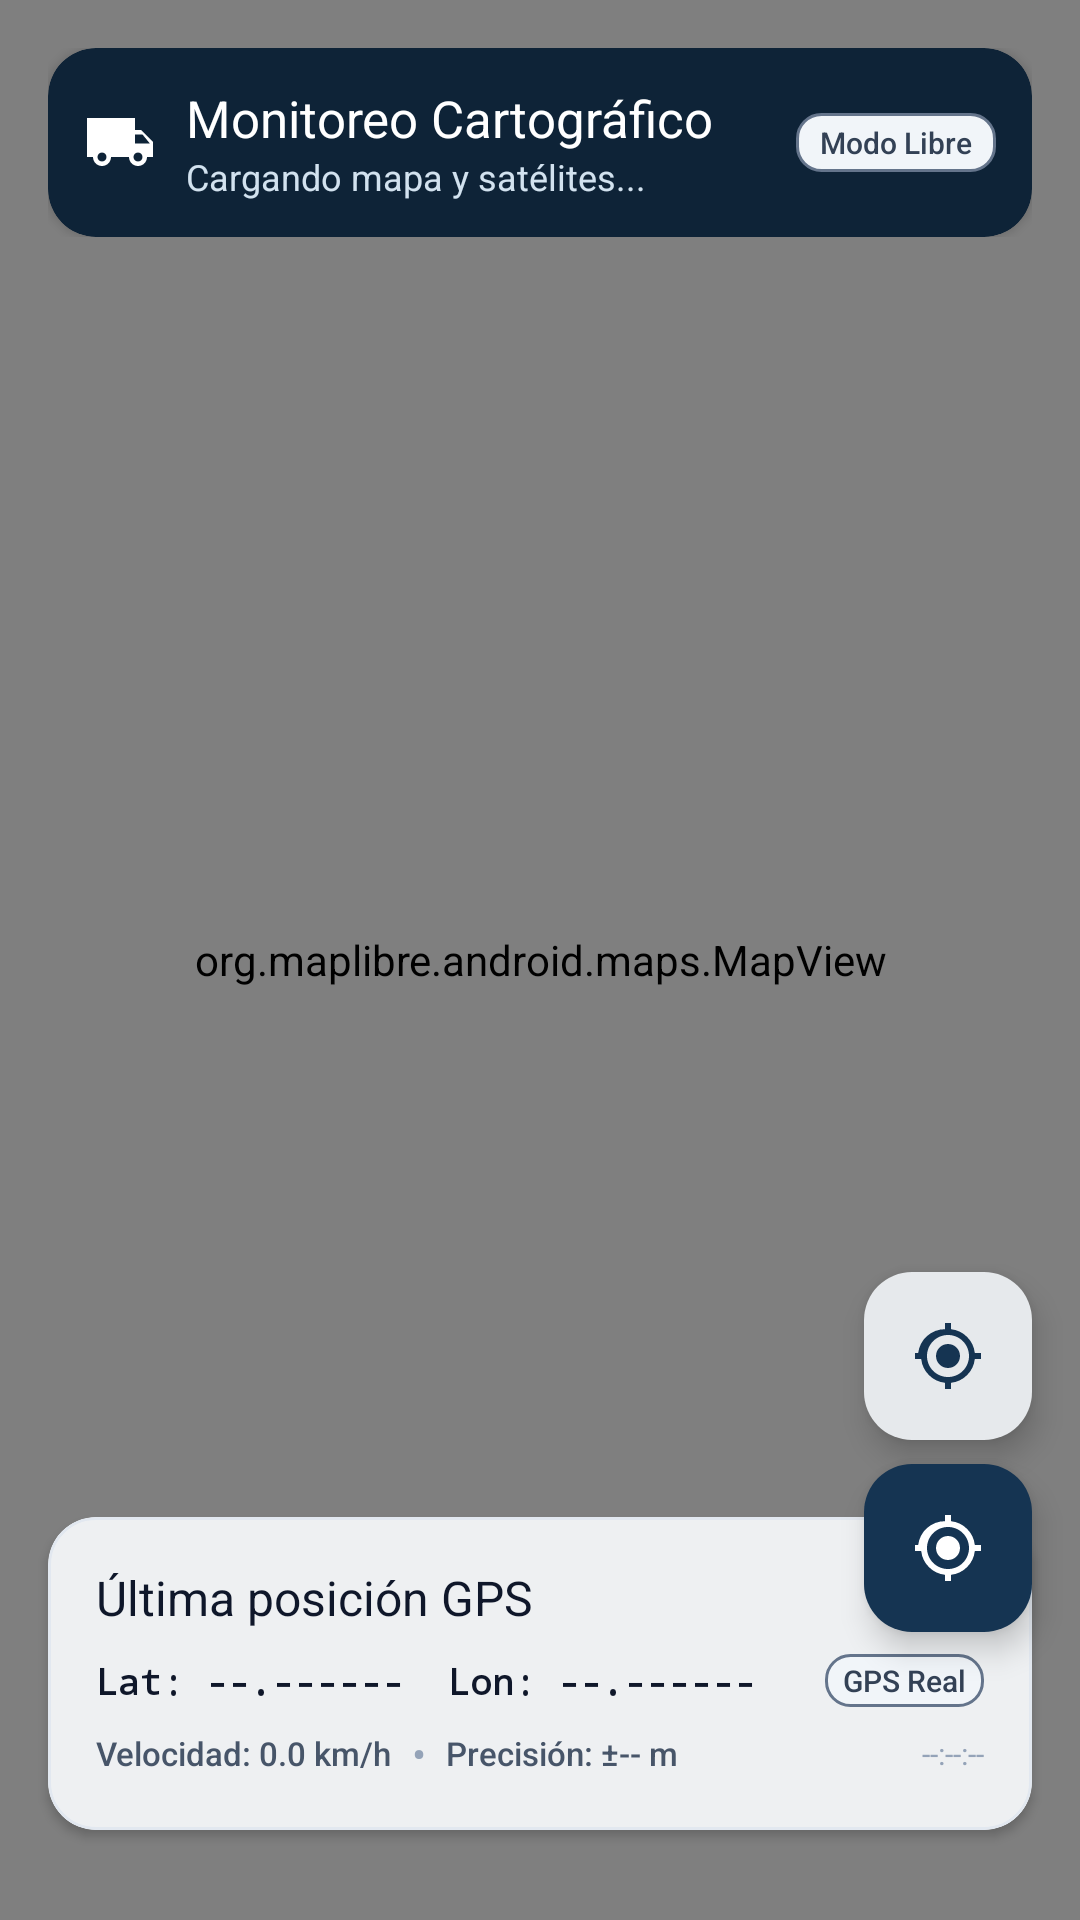

Screen size 1080 x 1920. Icon name, then its center in pixels as (x=x, y=y):
Camión: (x=120, y=142)
Centrar mapa en la última ubicación: (x=948, y=1356)
